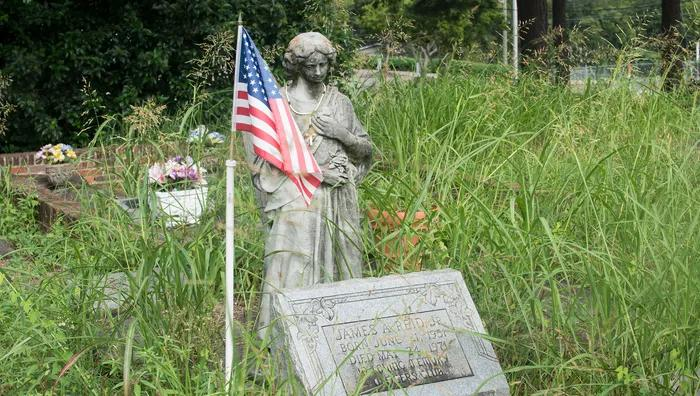overgrown grass: (356, 73, 699, 395), (0, 228, 224, 394)
